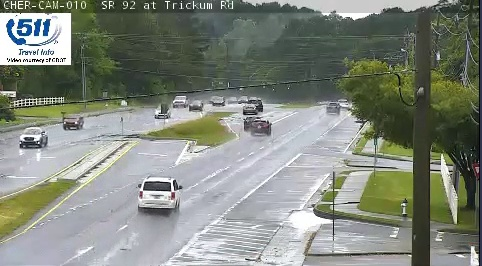car: (139, 178, 179, 209), (250, 119, 270, 134)
